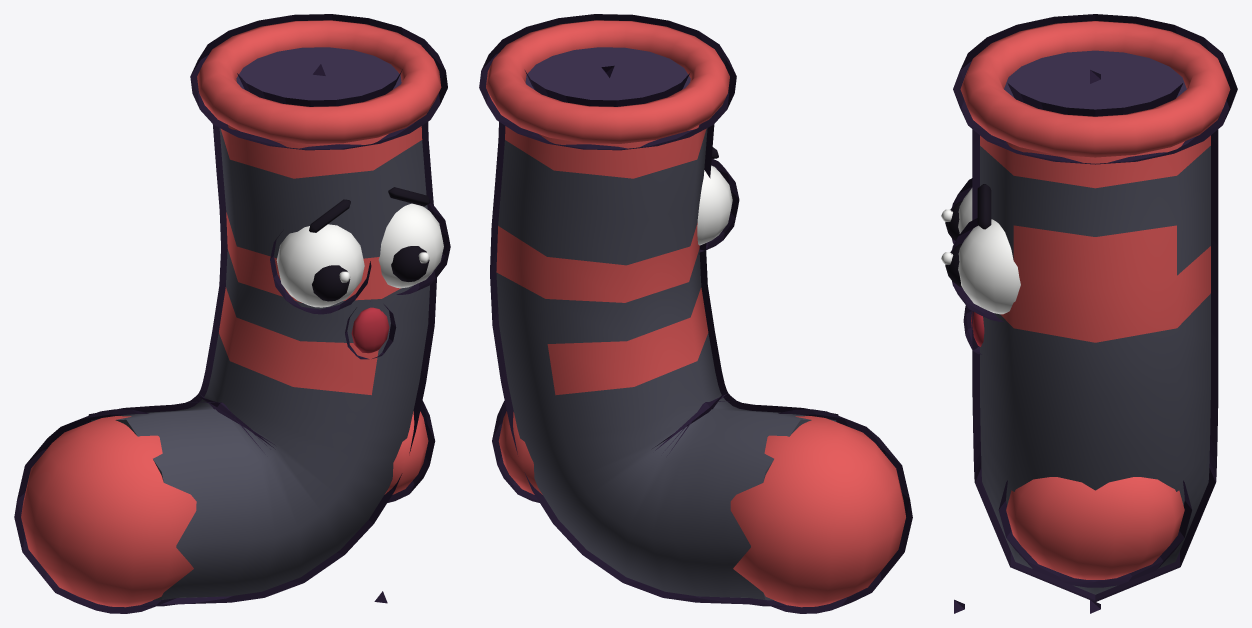
The model's file is Compressio_L.glb.
3 renders of one model, left to right at view 1: azimuth 30°, elevation 25°; view 2: azimuth 150°, elevation 25°; view 3: azimuth 270°, elevation 25°, orthographic. The views are drawn at different scales.
Parts seen in each view (by area): view 1: Compressio_L, Compressio_L_Outline; view 2: Compressio_L, Compressio_L_Outline; view 3: Compressio_L, Compressio_L_Outline.
Boxes of the visible parts, bbox=[...] form: Compressio_L: bbox=[21, 20, 443, 607]; Compressio_L_Outline: bbox=[14, 14, 450, 613]; Compressio_L: bbox=[486, 20, 905, 607]; Compressio_L_Outline: bbox=[479, 14, 912, 613]; Compressio_L: bbox=[941, 21, 1230, 594]; Compressio_L_Outline: bbox=[948, 14, 1237, 601].
Size of the model in its own units: 3.77 by 4.62 by 2.18.
Materials: 1 (1 with a texture image).
